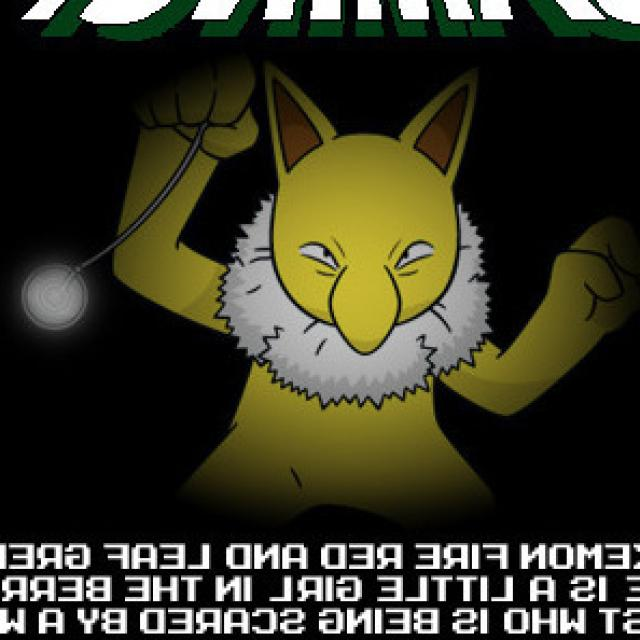Hypno: (164, 54, 532, 512)
